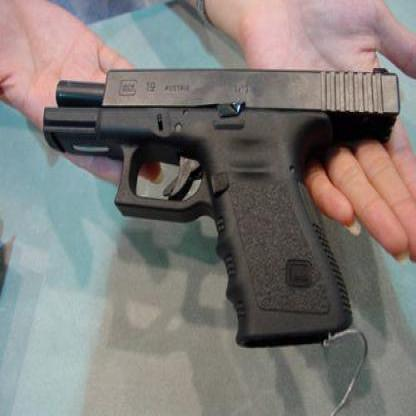pistol: (40, 62, 396, 350)
